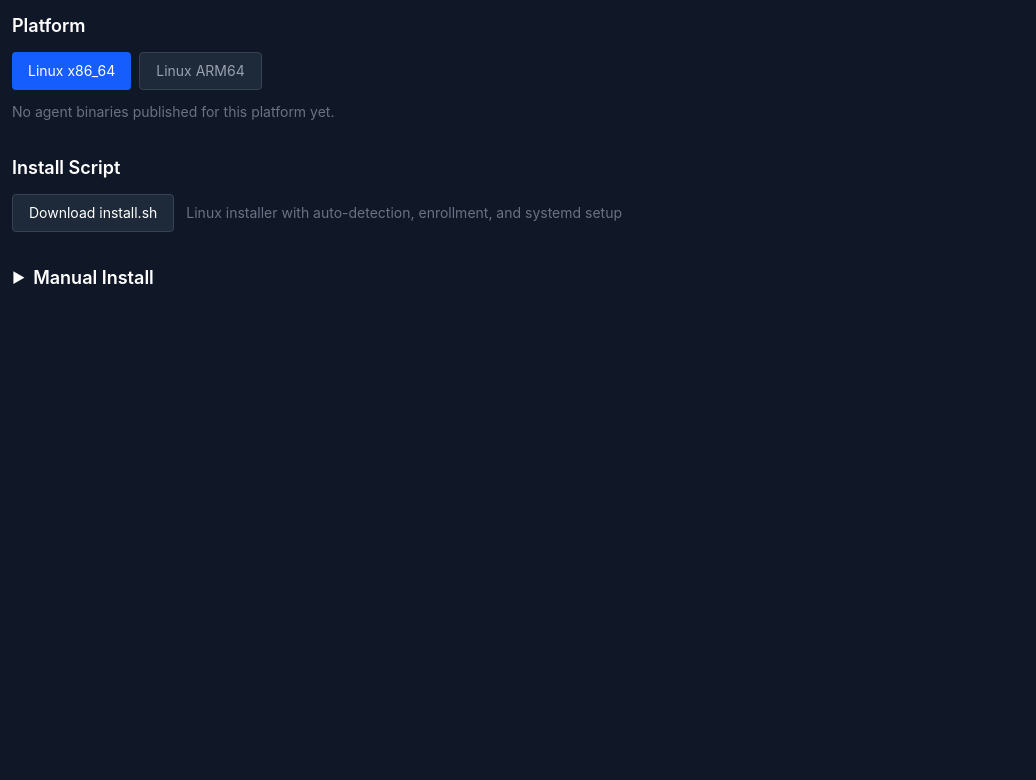
Test: InstallInstructions › manual install no-manifest line names the current platform
Click the button "▶ Manual Install" at (83, 278), box top-left (12, 264), bottom-right (154, 292)
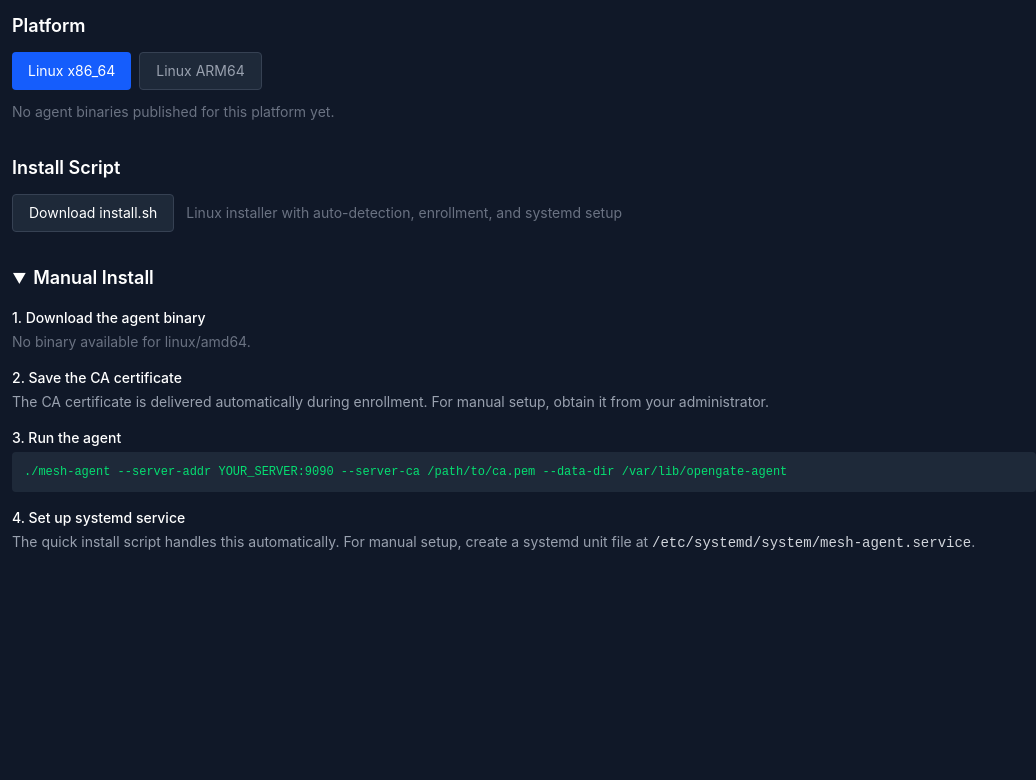
Check: the text "No binary available for linux/amd64." is shown, box top-left (12, 333), bottom-right (251, 350)
